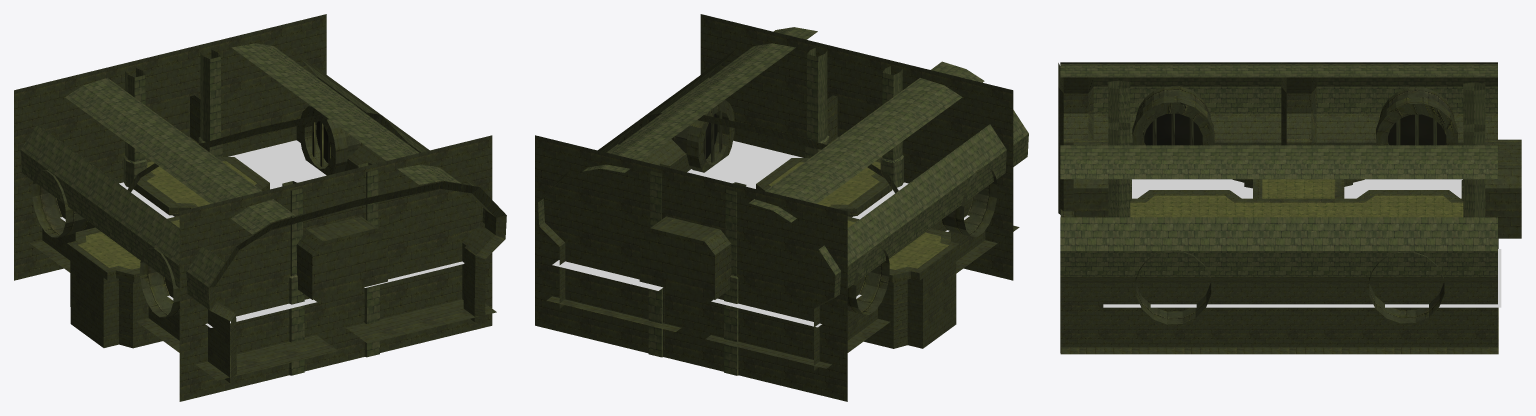
The model's file is Sewer_Straight_Short.fbx.
3 views of the same model, side by side, from view 1: azimuth 30°, elevation 25°; view 2: azimuth 150°, elevation 25°; view 3: azimuth 270°, elevation 25° (orthographic). The views are drawn at different scales.
Visible parts, largest first — view 1: Sewer_Straight_Short.Wall, Sewer_Straight_Short.floor, Sewer_Straight_Short.Water; view 2: Sewer_Straight_Short.Wall, Sewer_Straight_Short.floor, Sewer_Straight_Short.Water; view 3: Sewer_Straight_Short.Wall, Sewer_Straight_Short.floor, Sewer_Straight_Short.Water.
Part boxes in pixels (x1,y1,x2,y2): Sewer_Straight_Short.Wall: (14,14,506,401); Sewer_Straight_Short.floor: (67,157,269,274); Sewer_Straight_Short.Water: (60,140,464,327); Sewer_Straight_Short.Wall: (535,14,1028,401); Sewer_Straight_Short.floor: (756,158,959,275); Sewer_Straight_Short.Water: (552,140,969,327); Sewer_Straight_Short.Wall: (1058,62,1521,354); Sewer_Straight_Short.floor: (1130,179,1463,217); Sewer_Straight_Short.Water: (1103,179,1501,307).
Bounding box in the file's own units: 5163 × 2917 × 5687.
